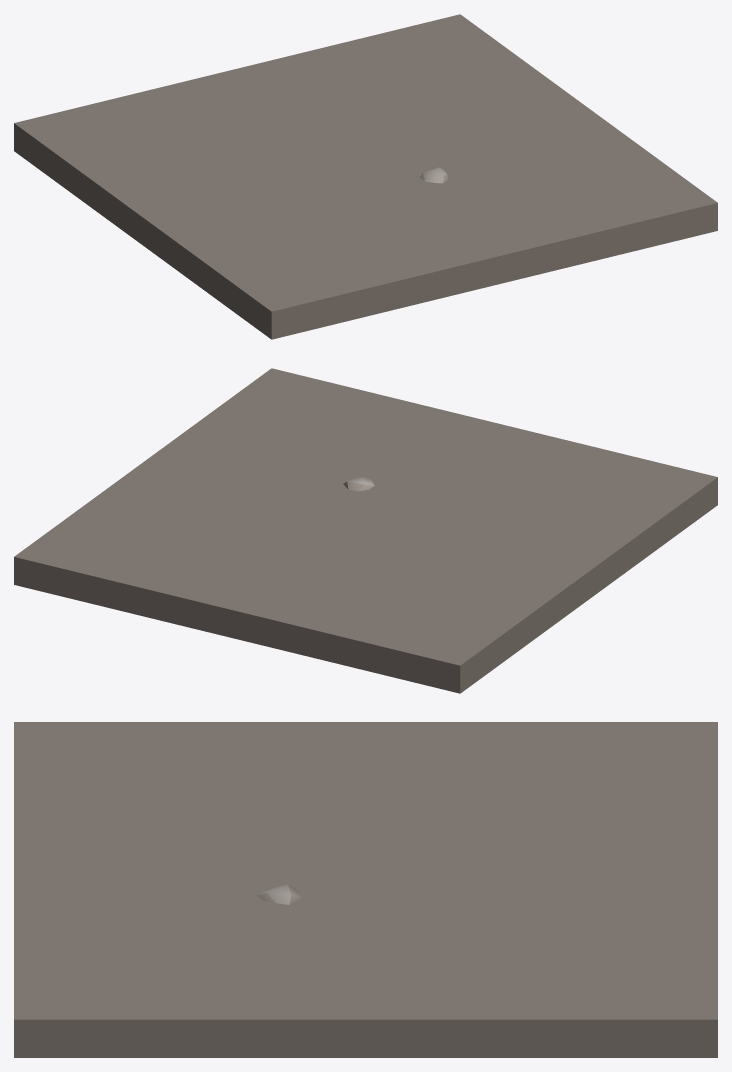
File: floor_dirt_small_D.gltf
The picture shows the model from 3 angles, top to bottom: view 1: azimuth 30°, elevation 25°; view 2: azimuth 150°, elevation 25°; view 3: azimuth 270°, elevation 25°; orthographic projection. The views are drawn at different scales.
Parts seen in each view (by area): view 1: floor_dirt_small_D; view 2: floor_dirt_small_D; view 3: floor_dirt_small_D.
Part boxes in pixels (left/top/right/bottom): floor_dirt_small_D: left=14, top=14, right=717, bottom=339; floor_dirt_small_D: left=14, top=368, right=717, bottom=693; floor_dirt_small_D: left=14, top=722, right=717, bottom=1057.
Size of the model in its own units: 2 by 0.1384 by 2.
Materials: 1 (1 with a texture image).
